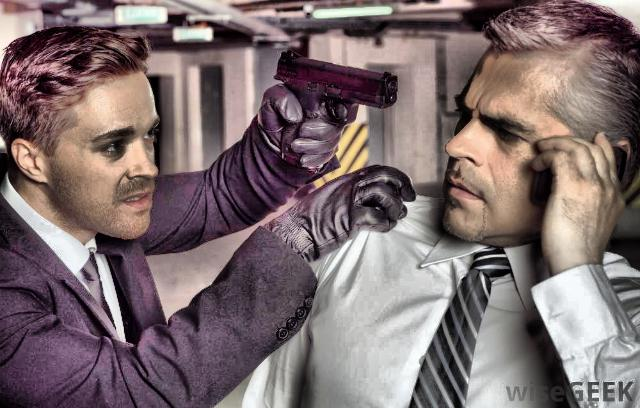pistol: (264, 47, 398, 180)
